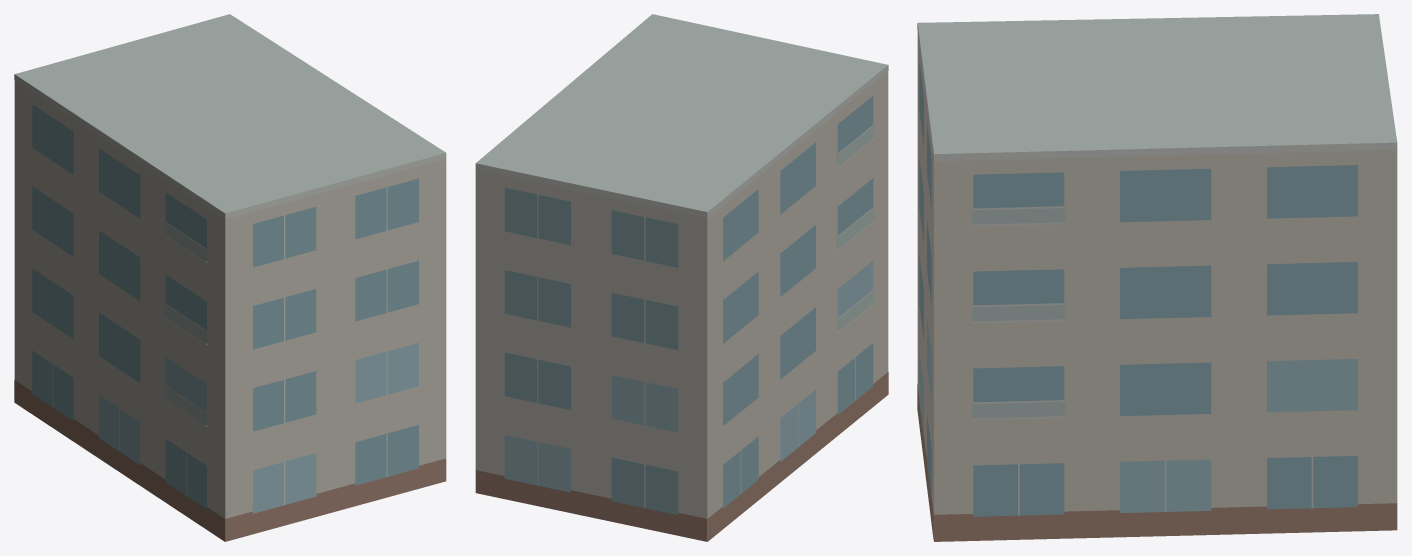
File: survey-upis-32748921.glb
3 renders of one model, left to right at view 1: azimuth 30°, elevation 25°; view 2: azimuth 150°, elevation 25°; view 3: azimuth 270°, elevation 25°, orthographic. The views are drawn at different scales.
Parts seen in each view (by area): view 1: survey-upis-32748921.tmp; view 2: survey-upis-32748921.tmp; view 3: survey-upis-32748921.tmp.
Part boxes in pixels (x1,y1,x2,y2): survey-upis-32748921.tmp: [14, 14, 446, 541]; survey-upis-32748921.tmp: [475, 14, 888, 541]; survey-upis-32748921.tmp: [917, 14, 1397, 541].
Size of the model in its own units: 10.12 by 13.04 by 14.63.
